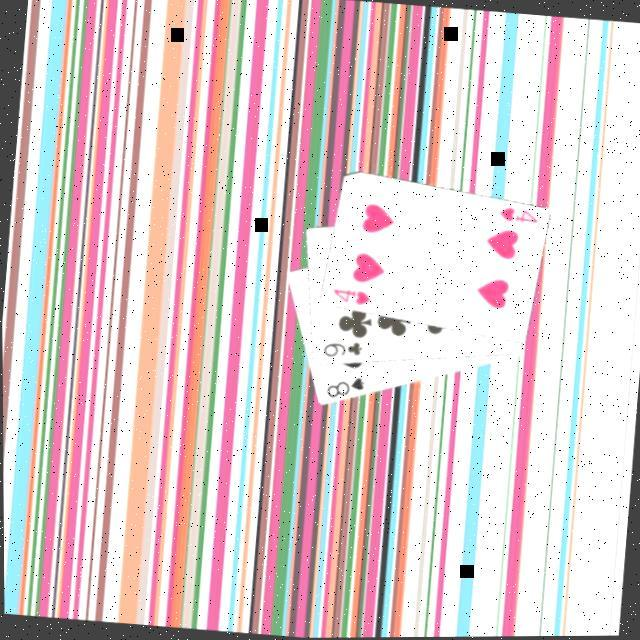4H: (493, 200, 539, 227), (325, 282, 371, 308)
8S: (320, 370, 364, 402)
9C: (316, 334, 364, 362)
